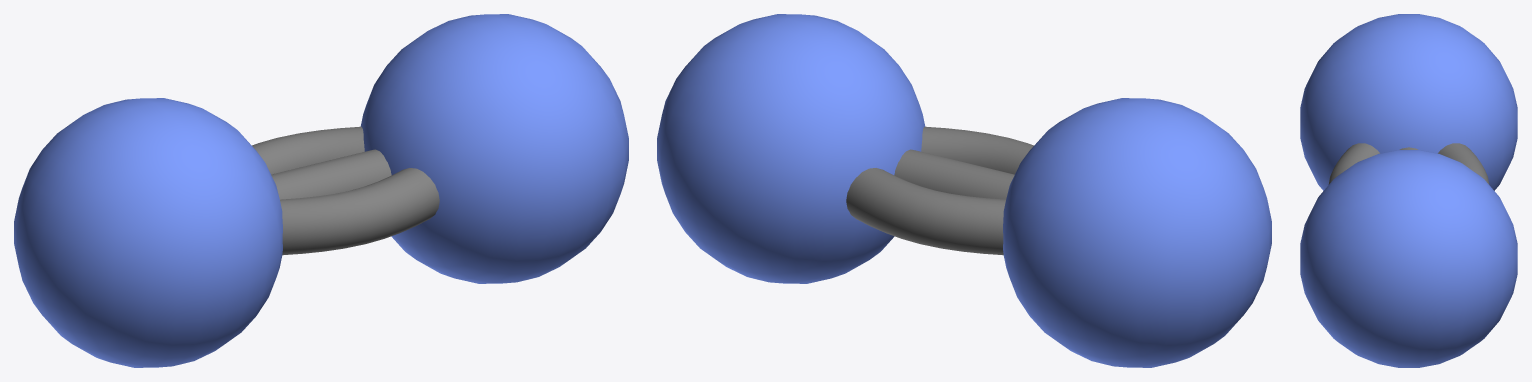
Rendered from 07_N2_BaS.fbx.
3 views of the same model, side by side, from view 1: azimuth 30°, elevation 25°; view 2: azimuth 150°, elevation 25°; view 3: azimuth 270°, elevation 25° (orthographic). The views are drawn at different scales.
Parts seen in each view (by area): view 1: N.002, N.001, Bond.001.001; view 2: N.002, N.001, Bond.001.001; view 3: N.001, N.002, Bond.001.001.
Boxes of the visible parts, bbox=[...] form: N.002: bbox=[14, 98, 282, 367]; N.001: bbox=[360, 14, 628, 283]; Bond.001.001: bbox=[252, 126, 439, 255]; N.002: bbox=[1003, 98, 1271, 367]; N.001: bbox=[657, 14, 925, 283]; Bond.001.001: bbox=[846, 126, 1033, 255]; N.001: bbox=[1300, 150, 1517, 367]; N.002: bbox=[1300, 14, 1517, 190]; Bond.001.001: bbox=[1328, 143, 1489, 184].
Bounding box in the file's own units: 184 × 74.24 × 74.24.
